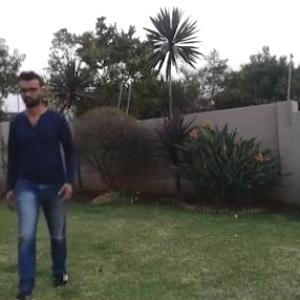follow: (7, 74, 65, 276)
